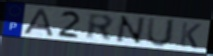2: (57, 10, 84, 41)
A: (22, 7, 55, 37)
K: (178, 21, 203, 50)
N: (113, 15, 147, 46)
R: (85, 12, 116, 43)
U: (144, 16, 177, 48)
